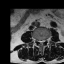CCS_stenosis: (40, 38, 42, 47)
LFS_stenosis: (44, 37, 46, 43)
LLS_normal: (42, 37, 44, 45)
RFS_stenosis: (36, 37, 39, 43)
RLS_normal: (39, 38, 40, 45)
